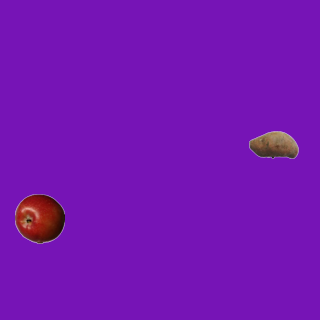Apple Braeburn: (14, 193, 64, 243)
Potato Sweet: (248, 119, 298, 169)
